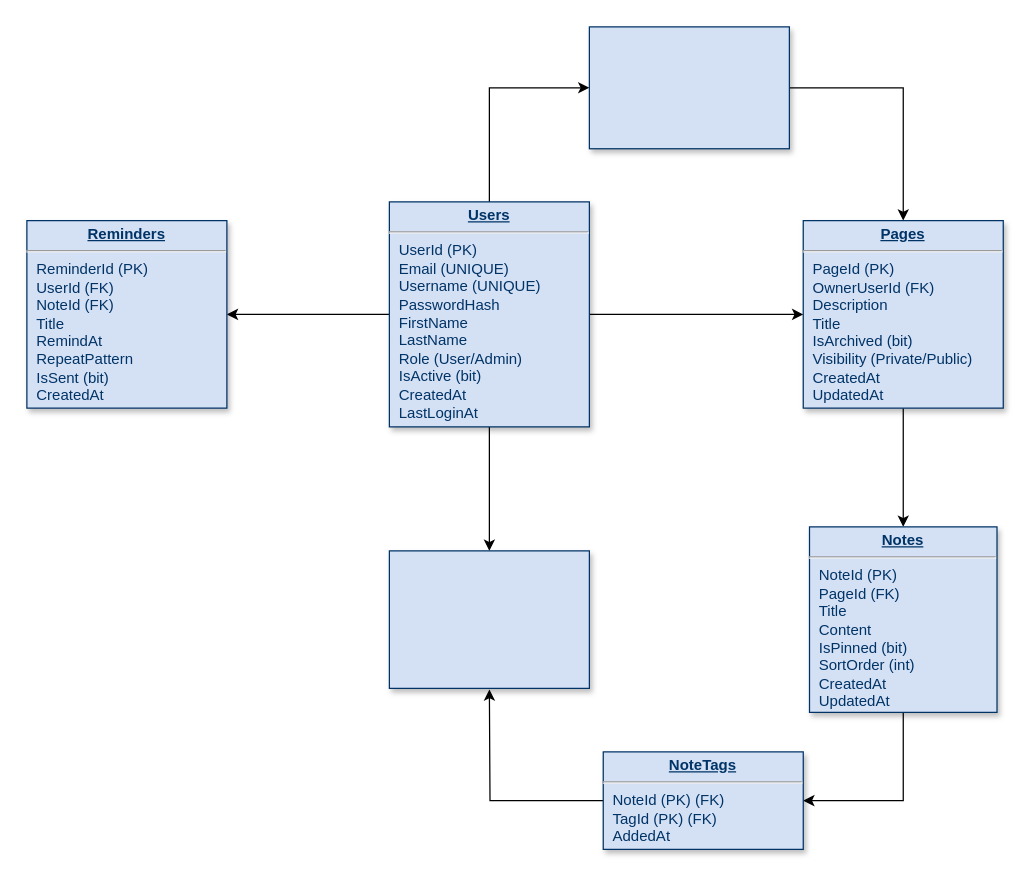
Image size: 1034x880. Some labels were removed from this diagram. The centre of each missing label's shape, as x and y in pixels:
SharedPages PageId (PK) (FK) UserId (PK) (FK) Permission (Read/Write) SharedAt: (690,89)
Tags TagId (PK) OwnerUserId (FK) Name Color CreatedAt: (490,621)
